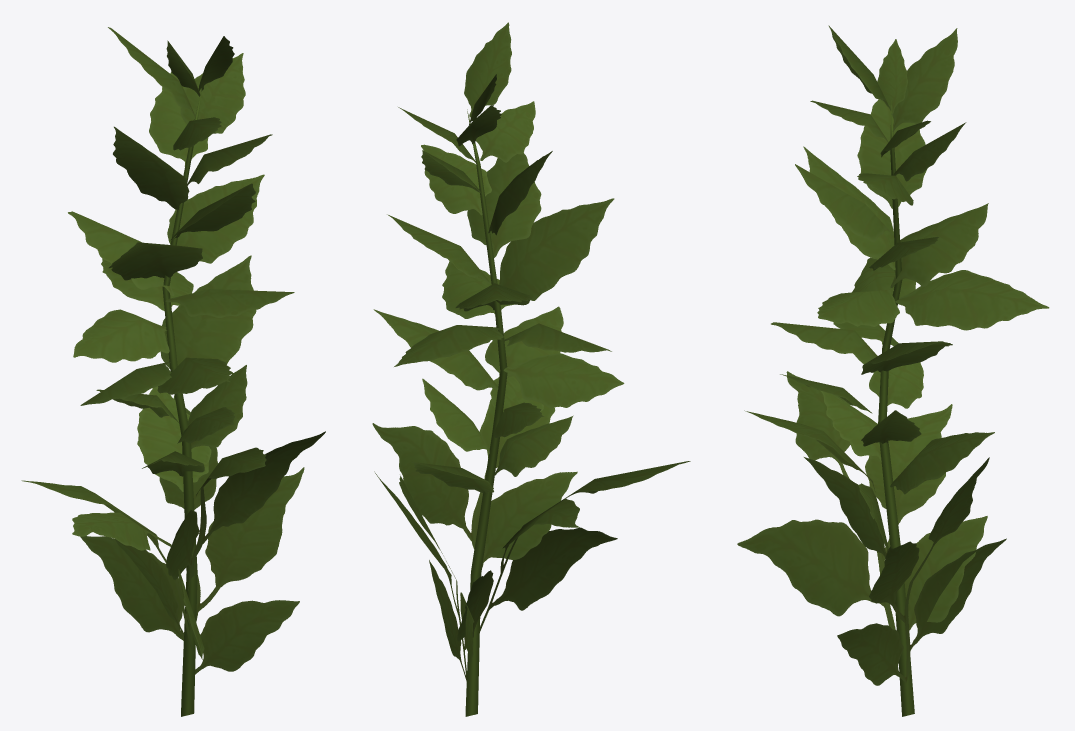
File: MSH_fwOF_ForestPlant_01.fbx
3 renders of one model, left to right at view 1: azimuth 30°, elevation 25°; view 2: azimuth 150°, elevation 25°; view 3: azimuth 270°, elevation 25°, orthographic. The views are drawn at different scales.
Parts seen in each view (by area): view 1: MSH_fwOF_ForestPlant_01; view 2: MSH_fwOF_ForestPlant_01; view 3: MSH_fwOF_ForestPlant_01.
Boxes of the visible parts, x1,y1,x2,y2 form: MSH_fwOF_ForestPlant_01: (21, 27, 325, 716); MSH_fwOF_ForestPlant_01: (372, 22, 690, 716); MSH_fwOF_ForestPlant_01: (737, 25, 1049, 716).
Size of the model in its own units: 0.2421 by 0.5305 by 0.2314.
